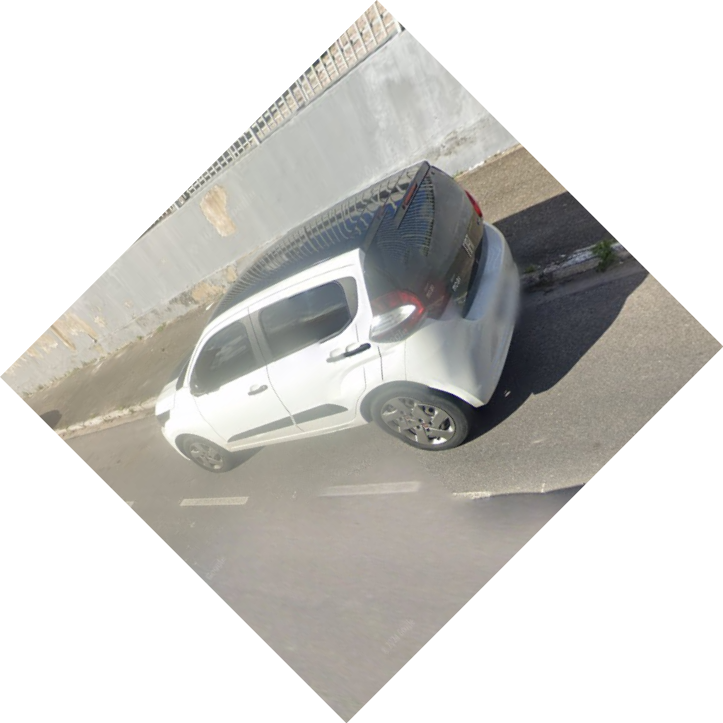car: (153, 159, 520, 484)
